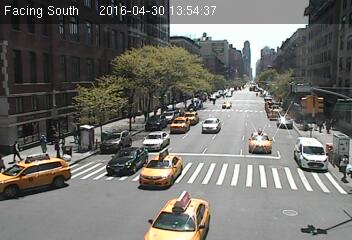neg: (63, 158, 95, 200), (247, 145, 273, 181), (214, 96, 239, 129), (90, 40, 115, 73), (283, 98, 305, 128), (206, 178, 227, 207), (266, 44, 287, 72), (32, 51, 53, 78), (137, 150, 156, 176), (184, 85, 202, 110), (196, 34, 214, 58), (281, 205, 299, 229), (312, 153, 330, 176)
pos: (6, 135, 28, 165), (328, 151, 349, 179), (35, 131, 51, 153)
